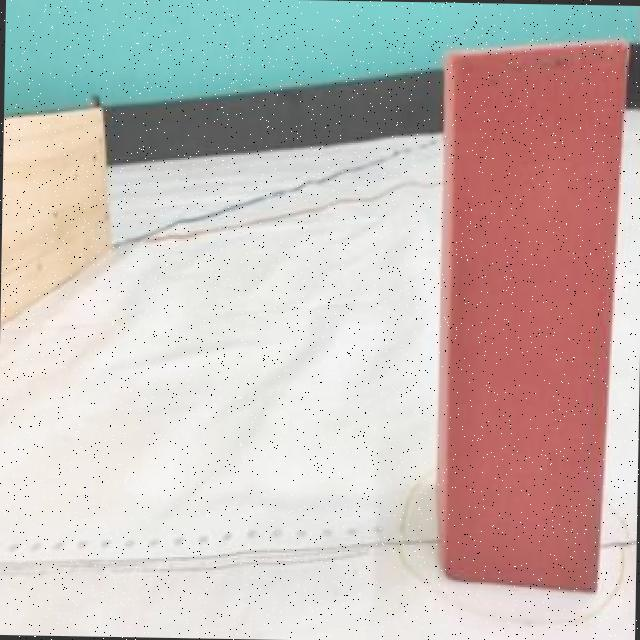redbox: (437, 36, 630, 594)
